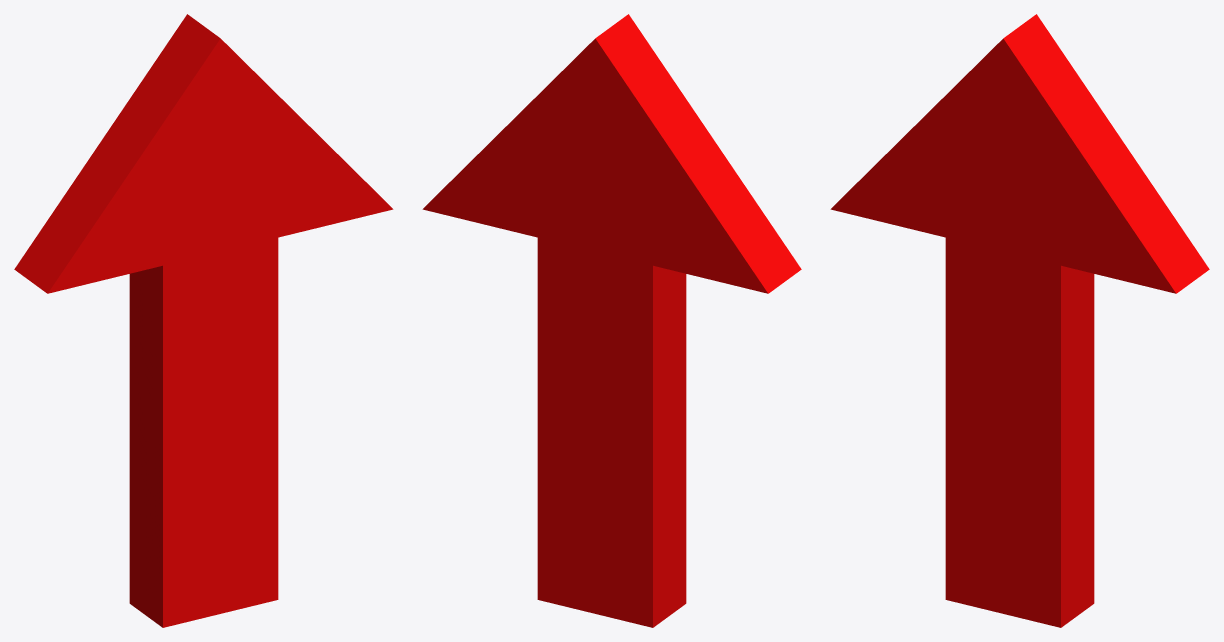
3 renders of one model, left to right at view 1: azimuth 30°, elevation 25°; view 2: azimuth 150°, elevation 25°; view 3: azimuth 330°, elevation 25°, orthographic.
Visible parts, largest first — view 1: SketchUp; view 2: SketchUp; view 3: SketchUp.
Part boxes in pixels (box(x1,y1,x2,y2)): SketchUp: box(14, 14, 393, 627); SketchUp: box(422, 14, 801, 627); SketchUp: box(830, 14, 1209, 627).
Bounding box in the file's own units: 0.375 × 0.0625 × 0.5957.
